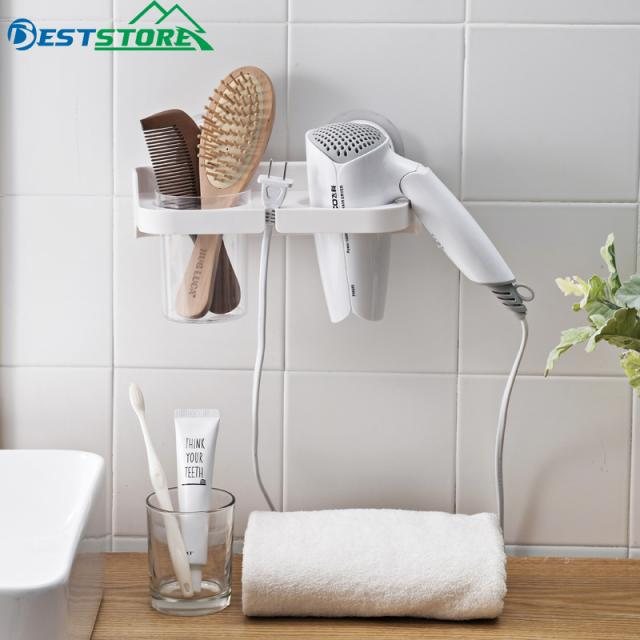dryer: (293, 95, 555, 499), (302, 116, 539, 340)
